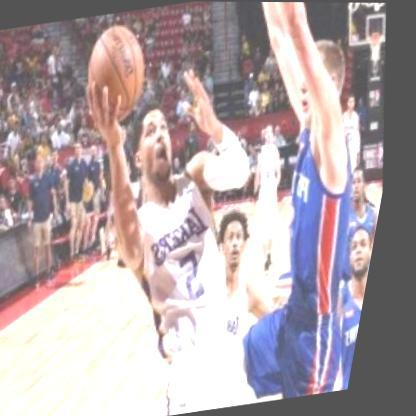basketball: (75, 21, 159, 118)
